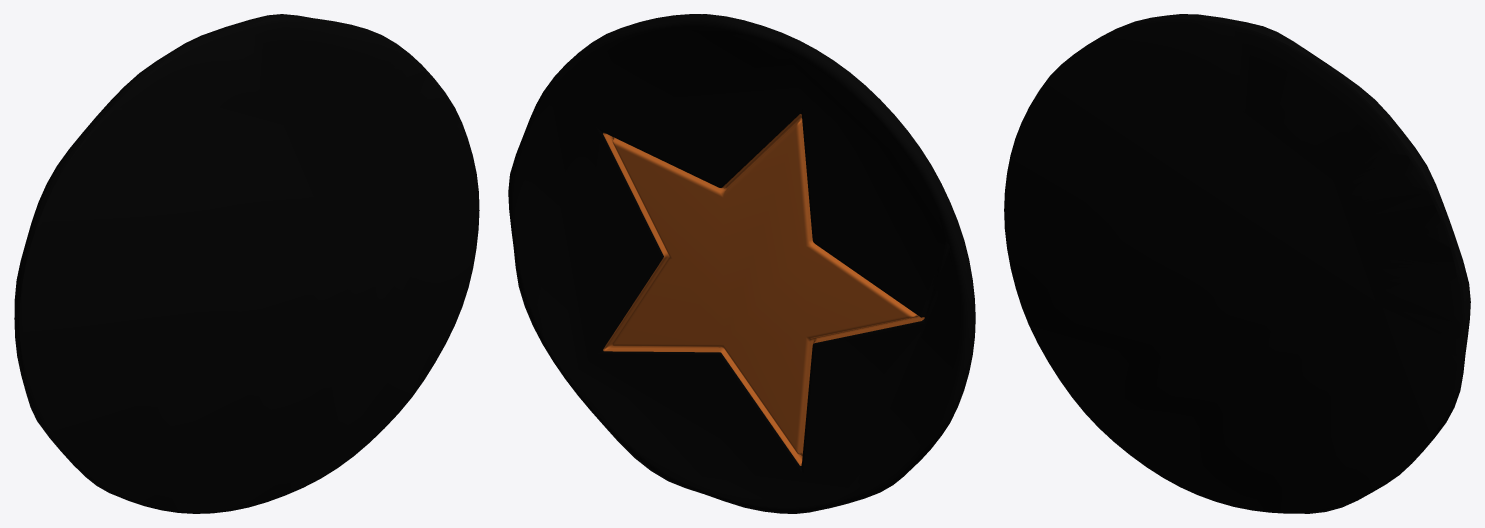
The model's file is dal_move.fbx.
The picture shows the model from 3 angles, left to right: view 1: azimuth 30°, elevation 25°; view 2: azimuth 150°, elevation 25°; view 3: azimuth 330°, elevation 25°; orthographic projection.
Parts seen in each view (by area): view 1: Cylinder002; view 2: Cylinder002; view 3: Cylinder002.
Boxes of the visible parts, x1,y1,x2,y2 form: Cylinder002: (14,14,479,513); Cylinder002: (508,14,975,513); Cylinder002: (1004,14,1470,513).
Bounding box in the file's own units: 66.76 × 66.7 × 2.18.
